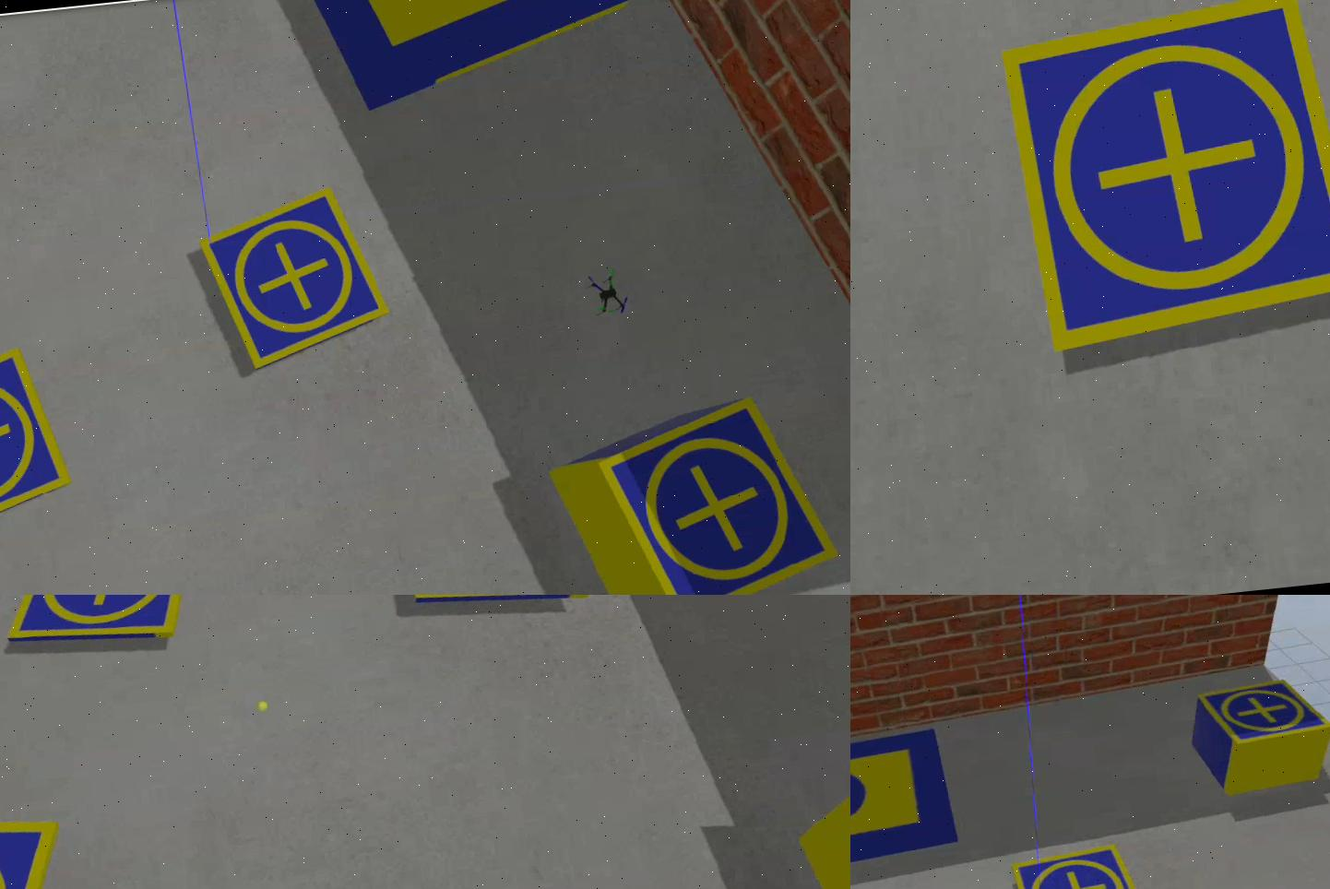large_base: (307, 1, 639, 113), (851, 731, 964, 889)
small_base: (998, 1, 1330, 360), (588, 391, 848, 596), (196, 185, 395, 376), (1, 343, 81, 547), (1, 596, 208, 665), (1198, 676, 1330, 755), (1017, 848, 1155, 889)
